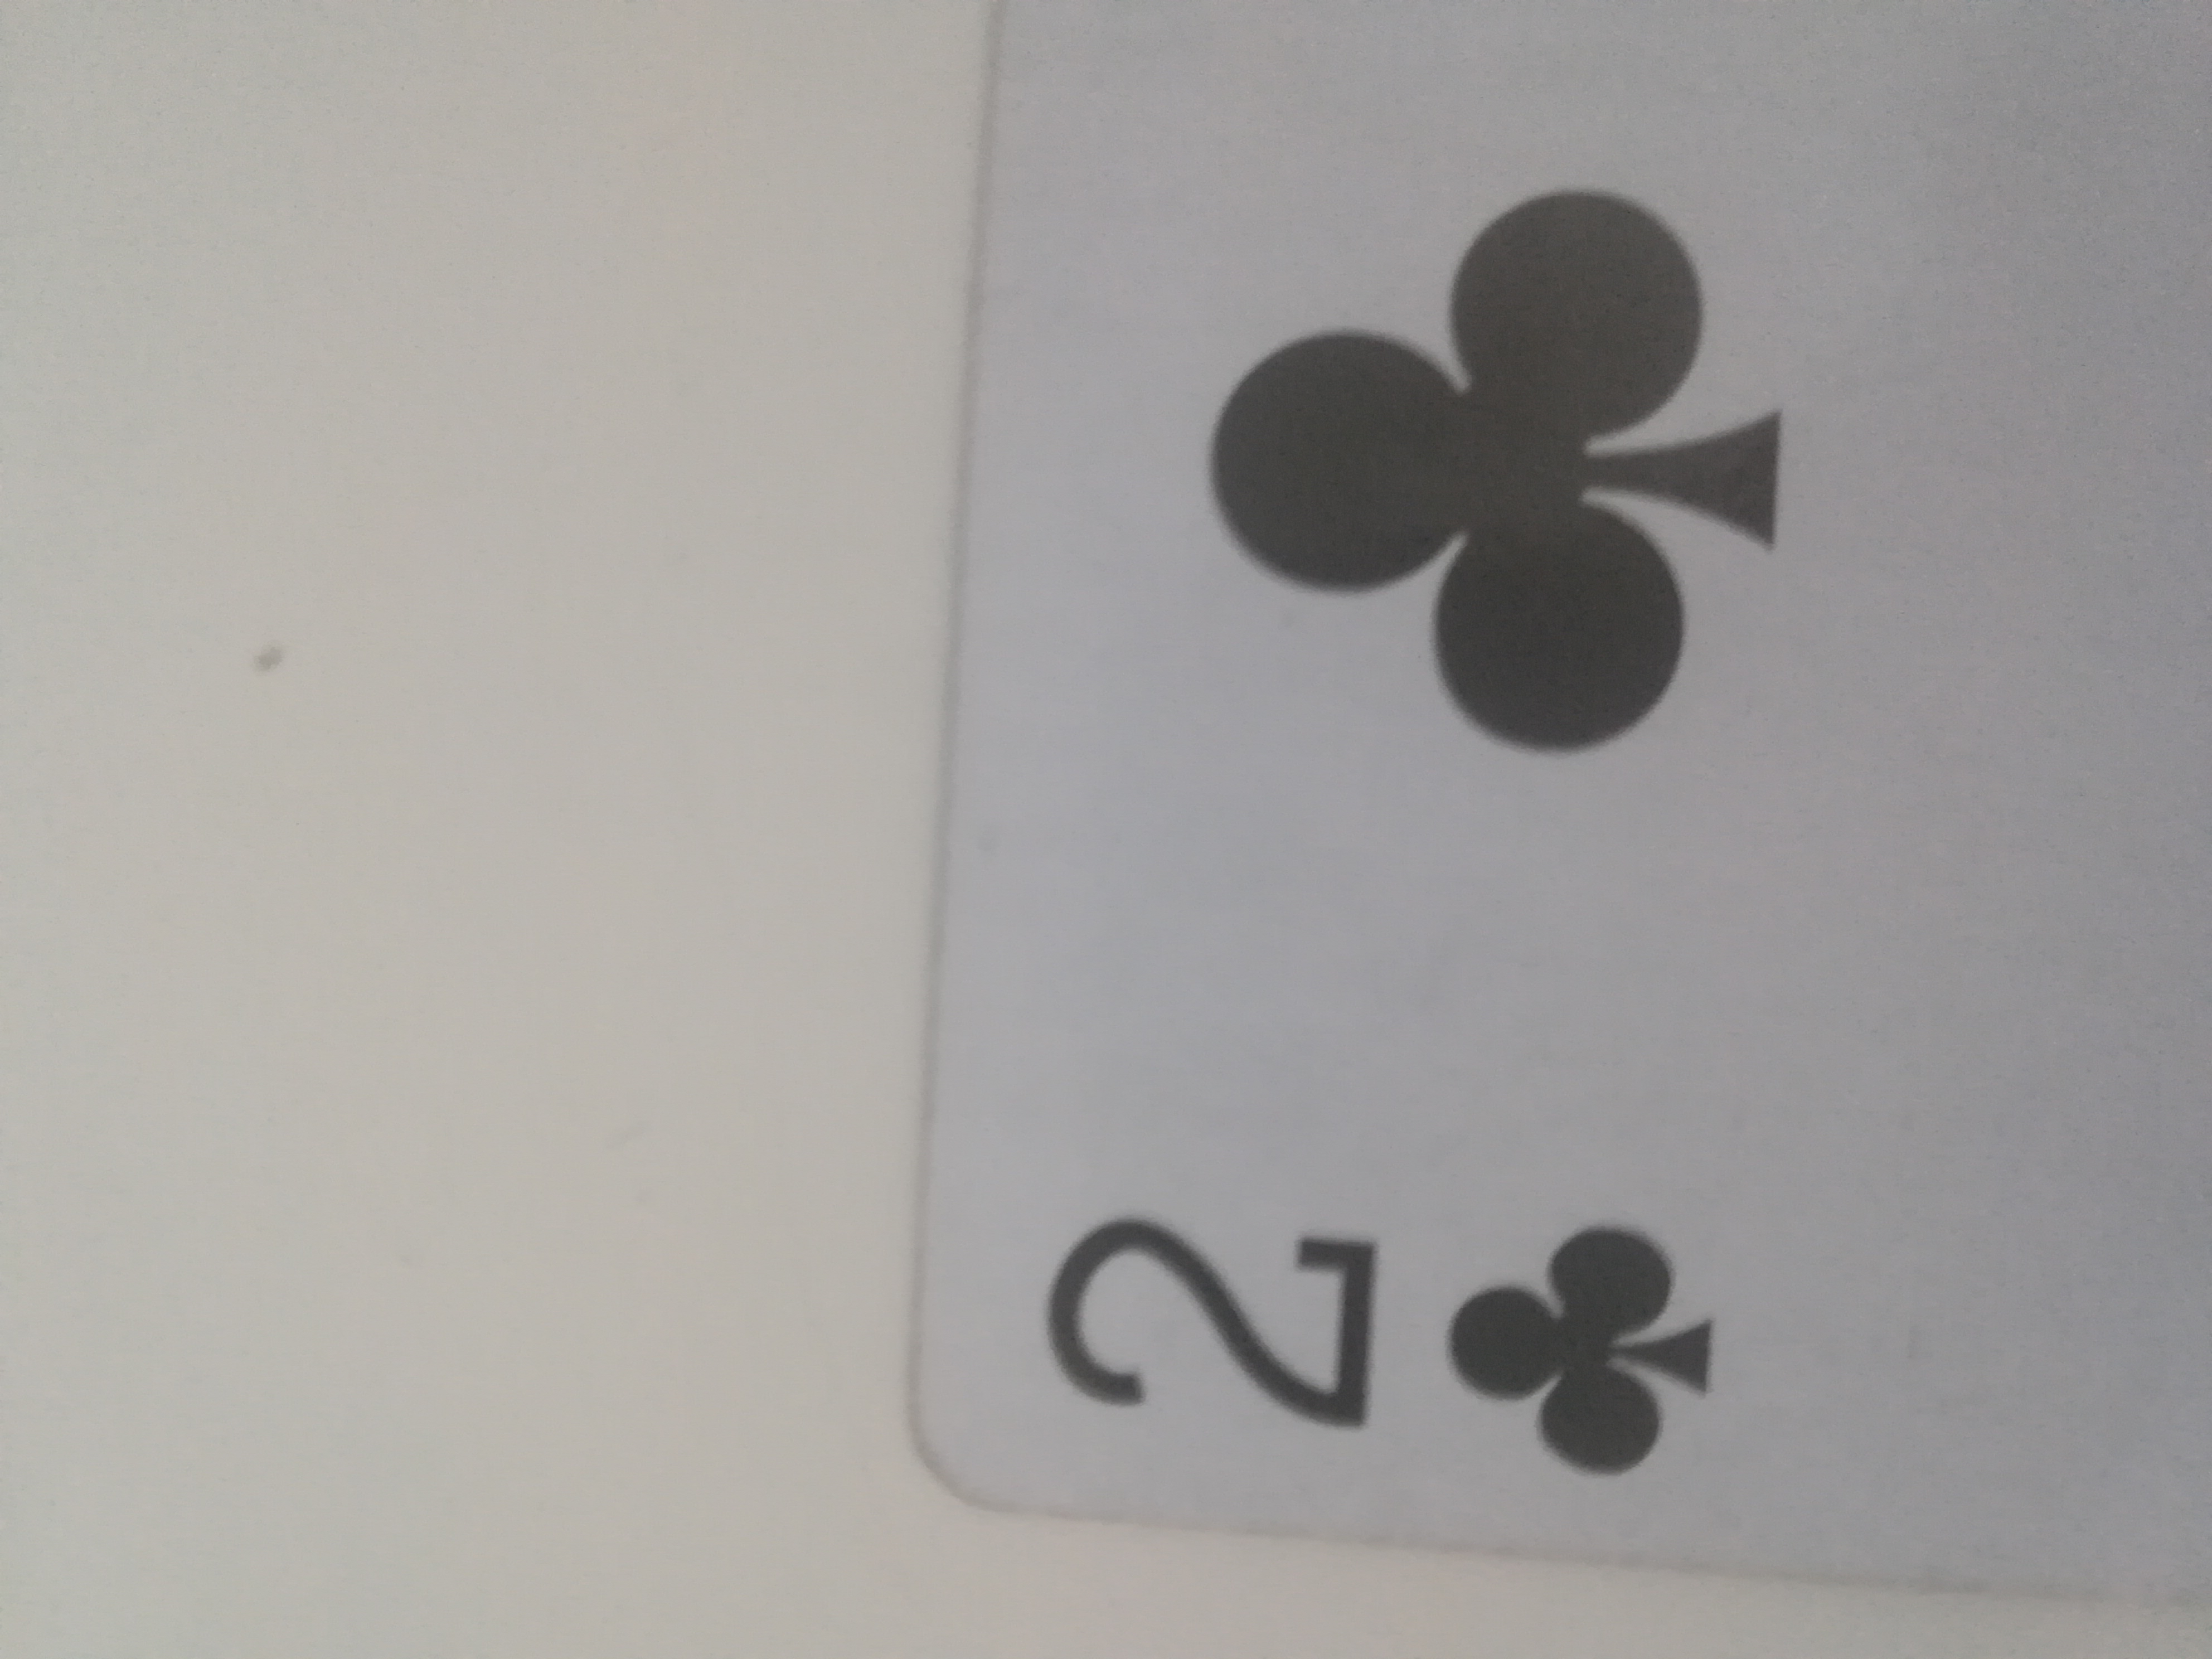2C: (862, 0, 2195, 1610)
